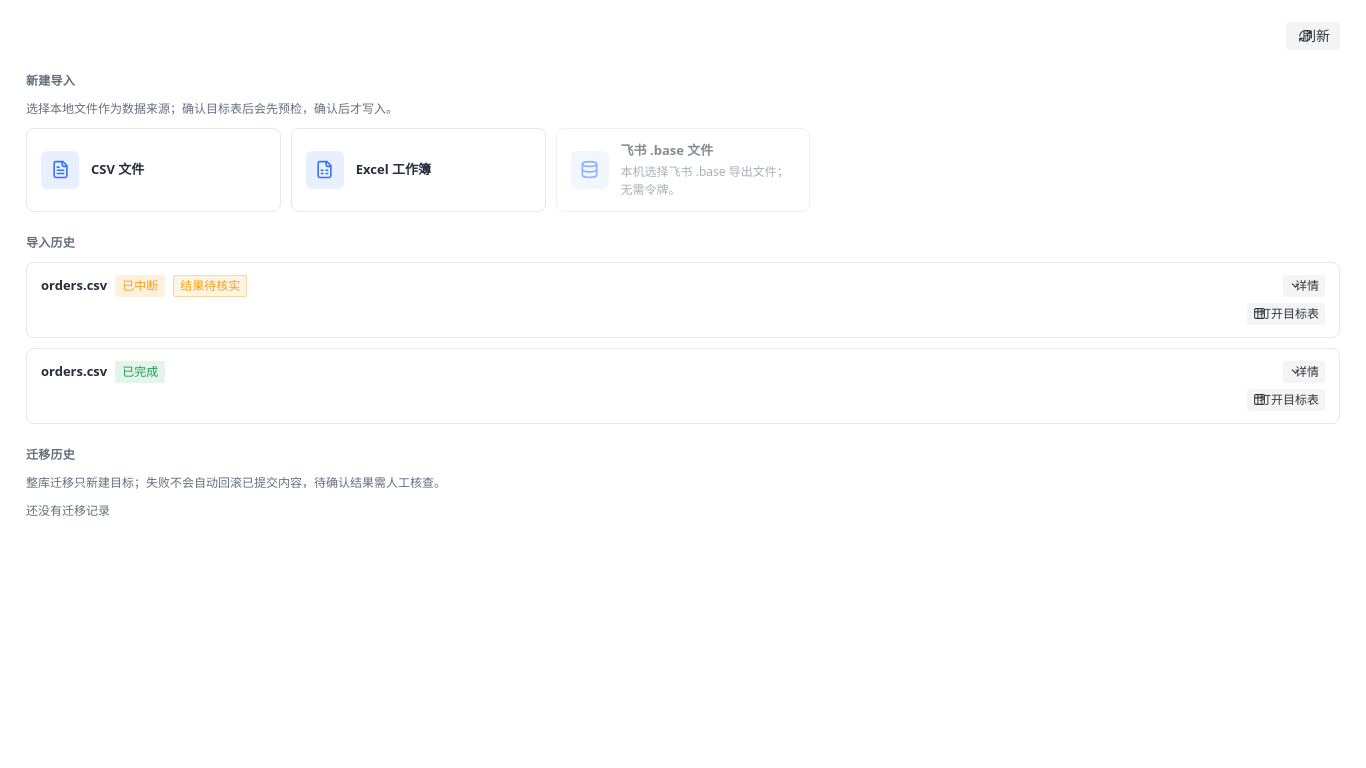
Test: ImportManagementView › never renders unknown commit counts as zero and explains the outcome
The image size is (1366, 768).
Expected: the number of list items with test id "import-history-row" is 2, [26,262,1340,338]; [26,348,1340,424]
Expected: the list item with test id "import-history-row" shows "结果待核实", [180,276,240,294]
What coordinates should you click on to do the following:
click the button with test id "import-history-detail-unknown-1"
I would click on:
 (1304, 286)
Its box is [1283,274,1325,296].
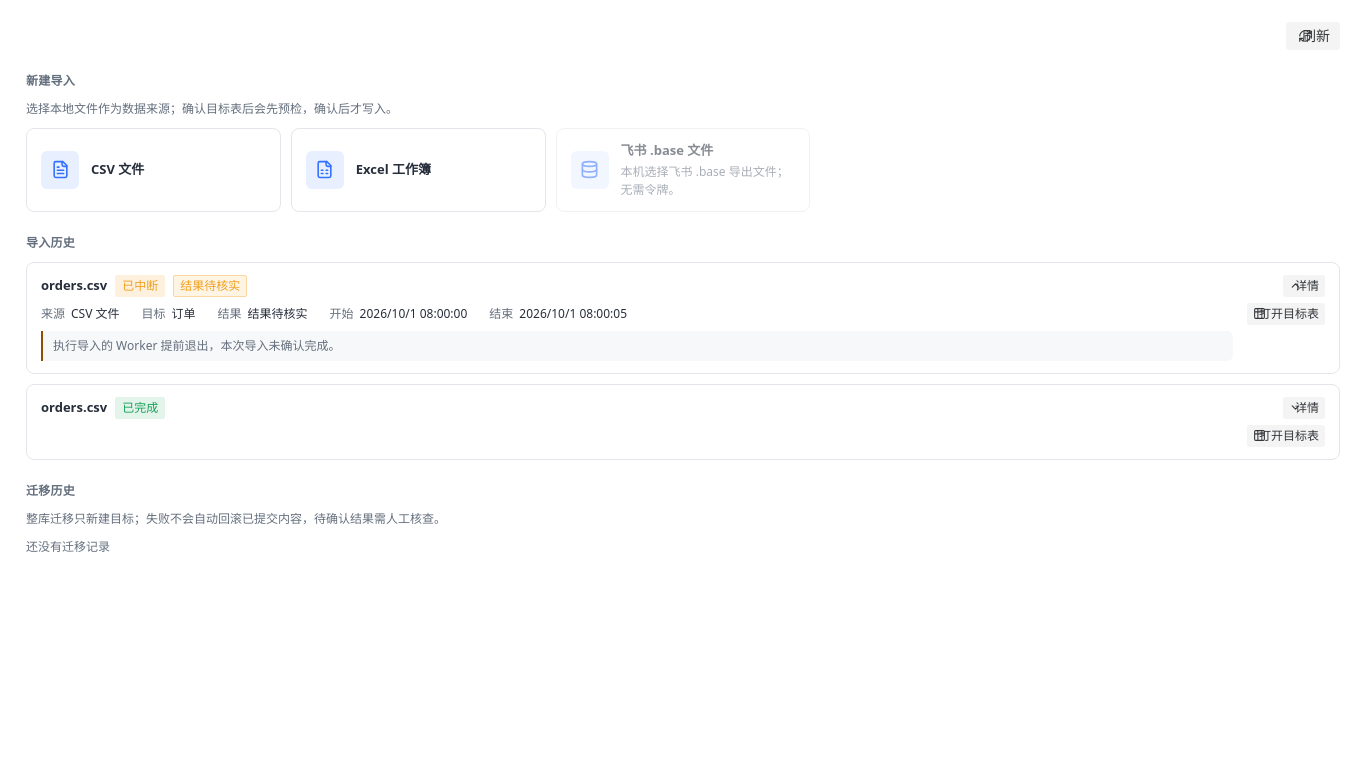
Expected: the list item with test id "import-history-row" shows "已中断", [122,276,158,294]
Expected: the list item with test id "import-history-row" shows "Worker", [53,336,340,354]
Expected: the text with test id "import-entry-unknown" is shown, [248,304,308,322]
What coordinates should you click on to do the following:
click the button with test id "import-history-detail-known-1"
I would click on:
 (1304, 408)
Its box is [1283,396,1325,418].
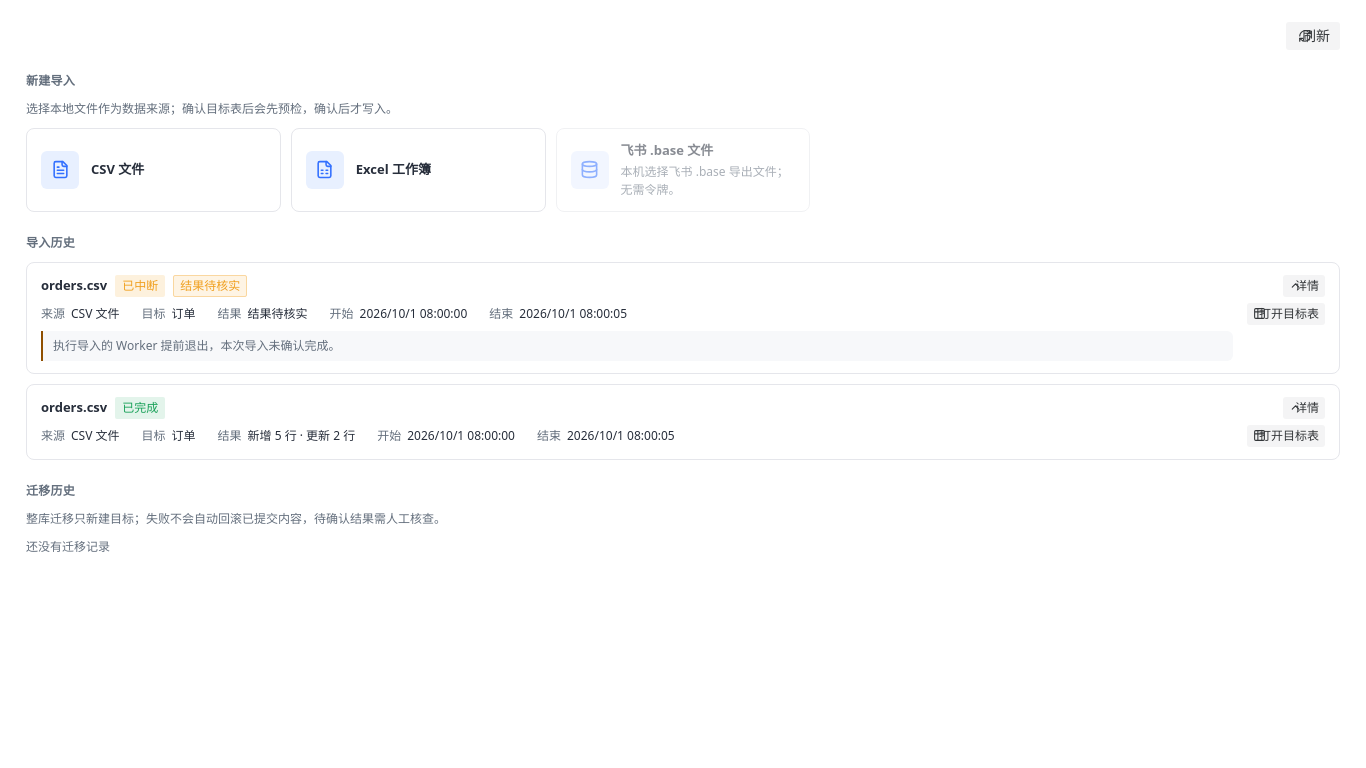
Expected: the text with test id "import-entry-counts" shows "新增 5 行", [248,426,355,444]
Expected: the text with test id "import-entry-counts" shows "更新 2 行", [248,426,355,444]
